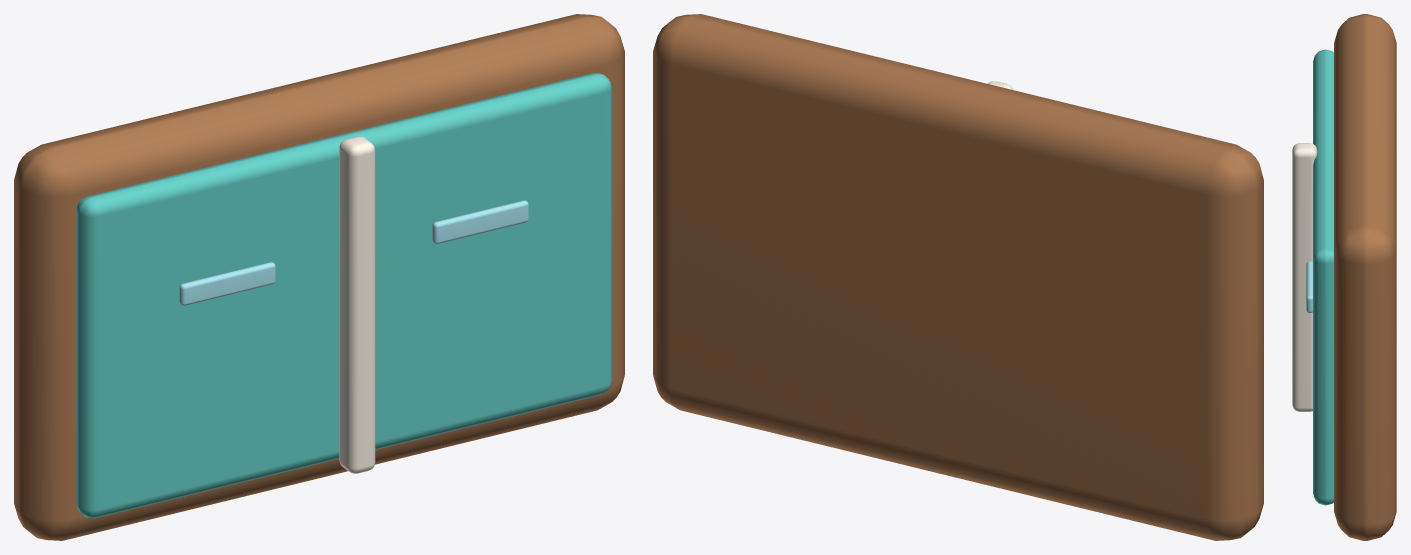
The model's file is window.glb.
The picture shows the model from 3 angles, left to right: view 1: azimuth 30°, elevation 25°; view 2: azimuth 150°, elevation 25°; view 3: azimuth 270°, elevation 25°; orthographic projection. The views are drawn at different scales.
Parts seen in each view (by area): view 1: Blue inset glass, Rounded window frame, Window mullion, Window broad glint, Window broad glint.001; view 2: Rounded window frame; view 3: Rounded window frame, Blue inset glass, Window mullion, Window broad glint.001.
Part boxes in pixels (x1,y1,x2,y2): Blue inset glass: (76,73,612,518); Rounded window frame: (14,14,624,540); Window mullion: (339,136,375,473); Window broad glint: (179,262,275,305); Window broad glint.001: (432,200,528,243); Rounded window frame: (653,14,1263,540); Rounded window frame: (1334,14,1396,540); Blue inset glass: (1313,49,1333,505); Window mullion: (1292,143,1317,411); Window broad glint.001: (1306,261,1312,313).
Size of the model in its own units: 2.65 by 1.65 by 0.5.
